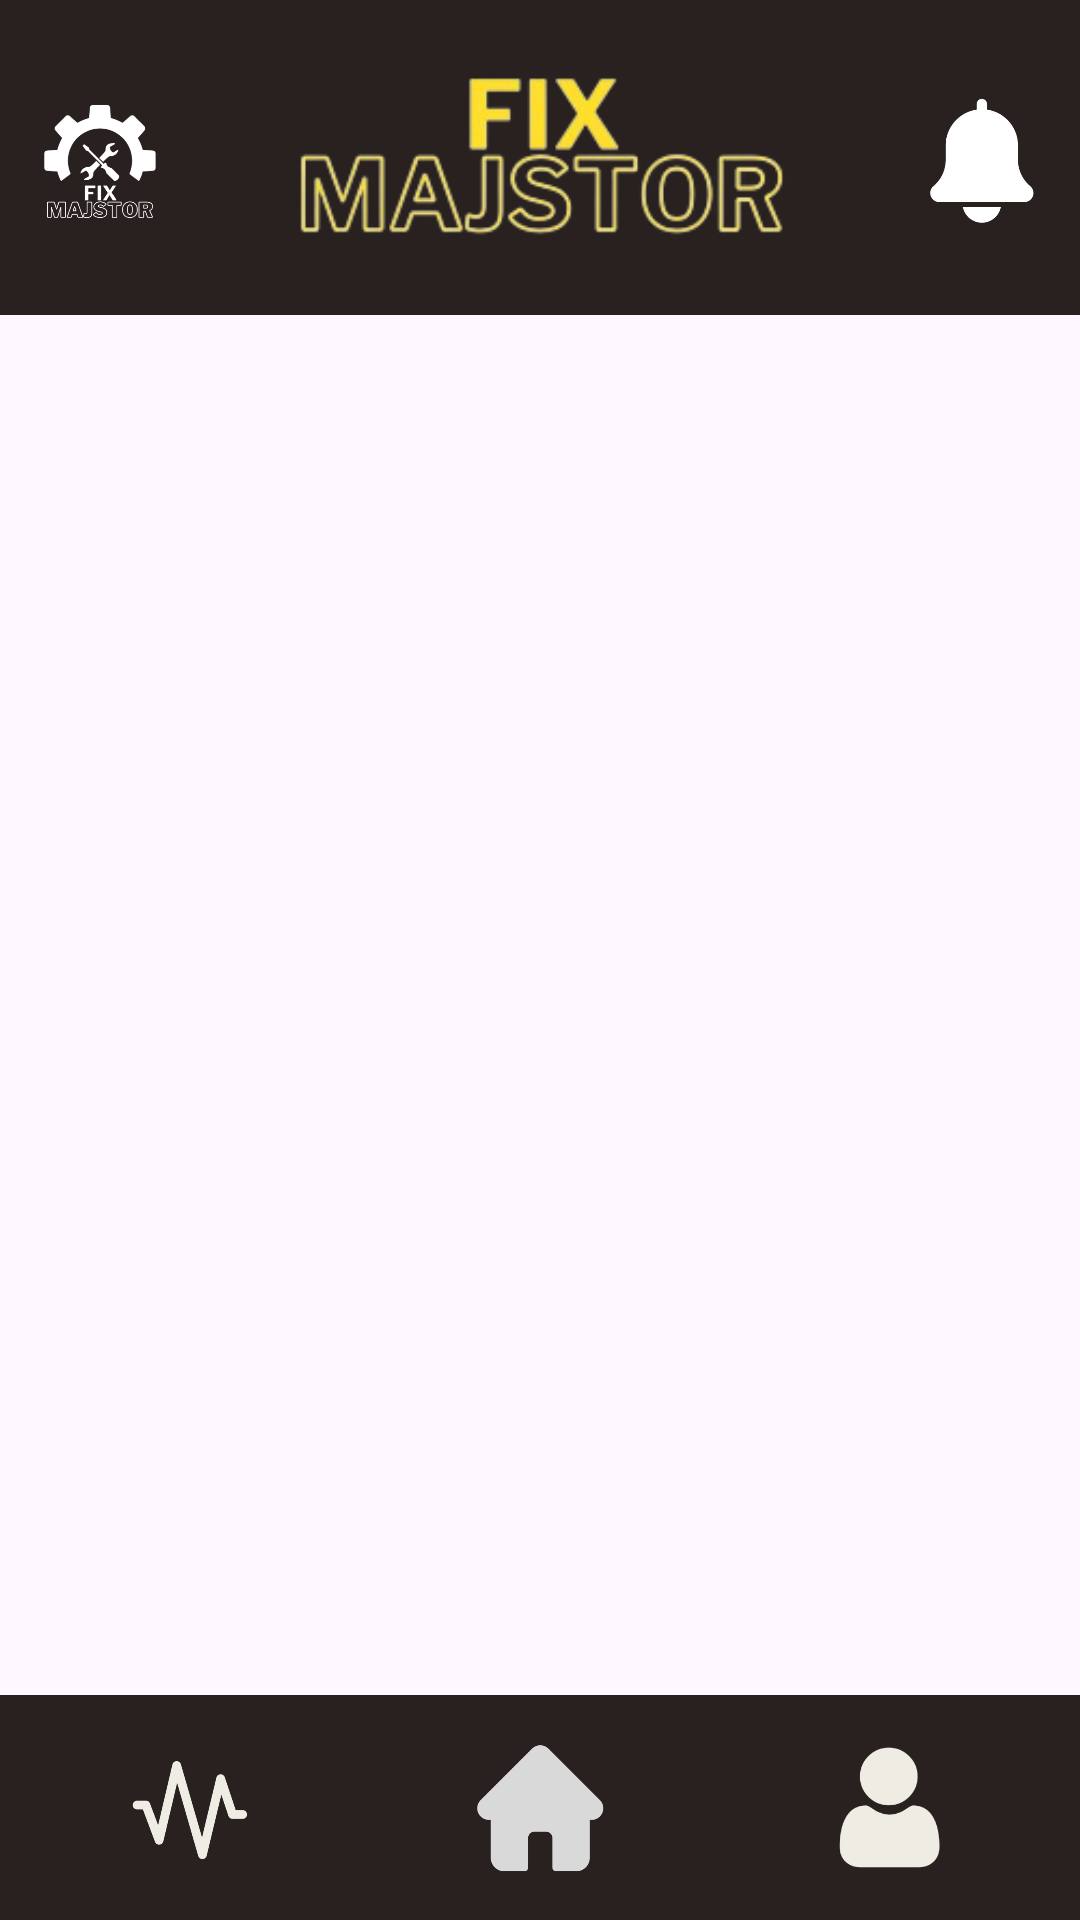

Point at icon controls on the screen. Image size 1080px×1920px, points as (x=x, y=y).
Activity: (x=189, y=1810)
Home: (x=540, y=1808)
notification: (x=982, y=161)
Profile: (x=889, y=1807)
